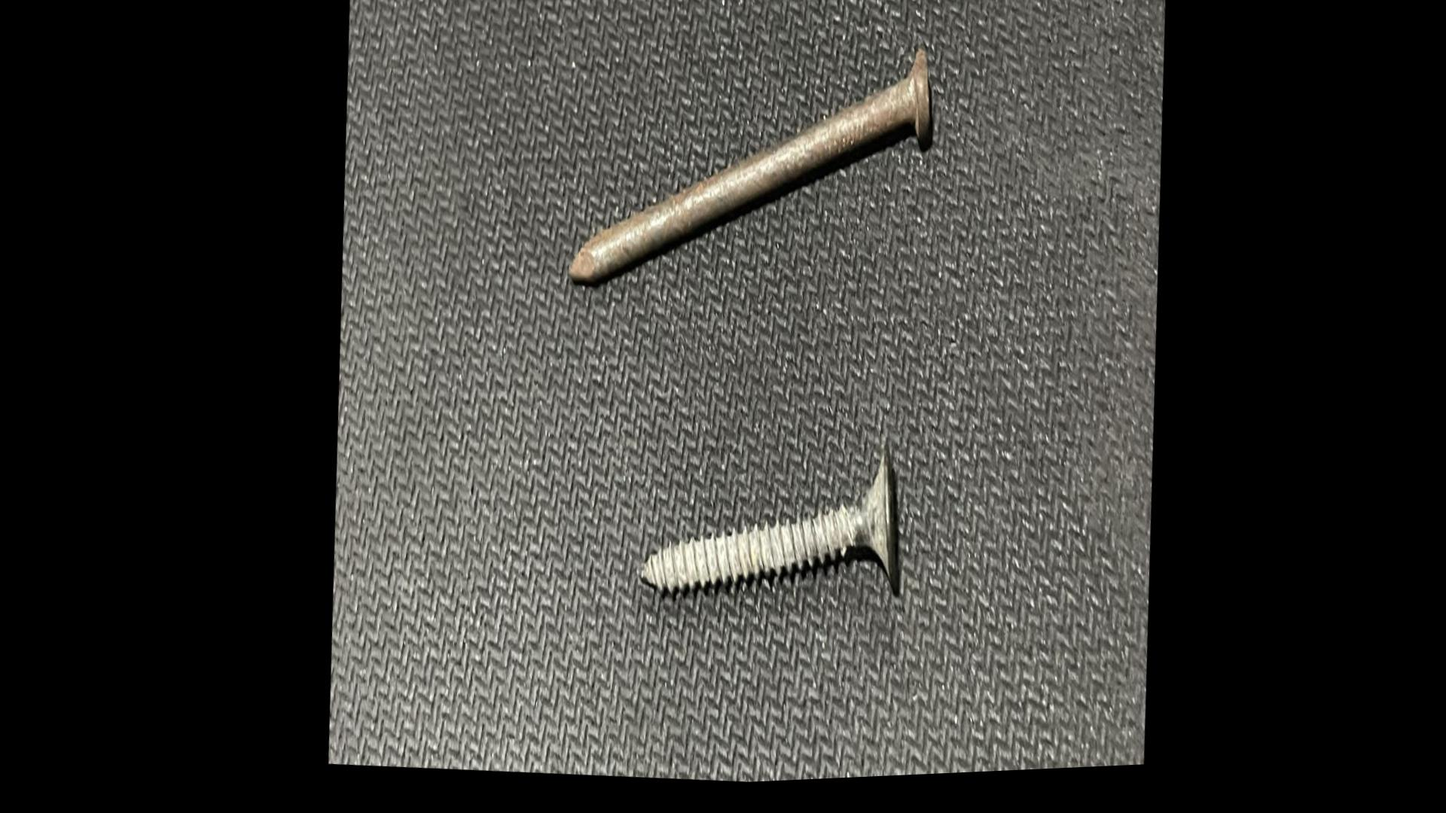nail: (532, 0, 975, 357)
screw: (597, 382, 931, 681)
